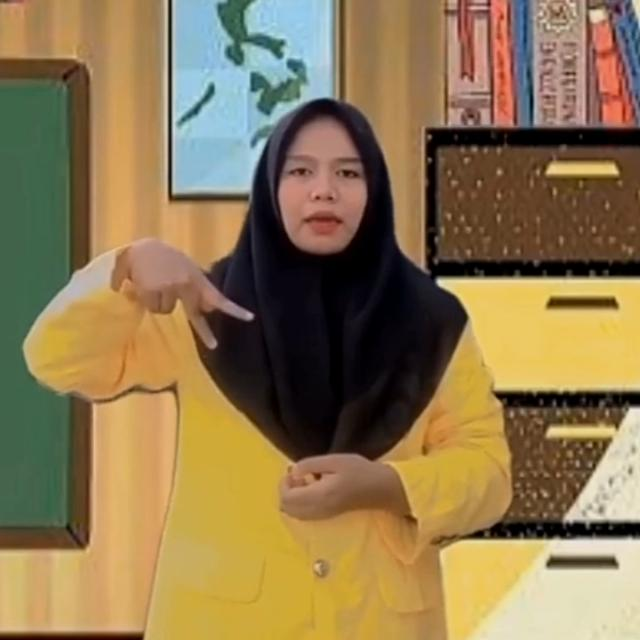P: (128, 238, 258, 354)
